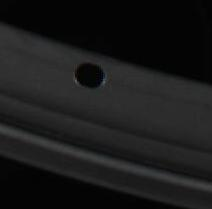holes: (74, 60, 107, 90)
